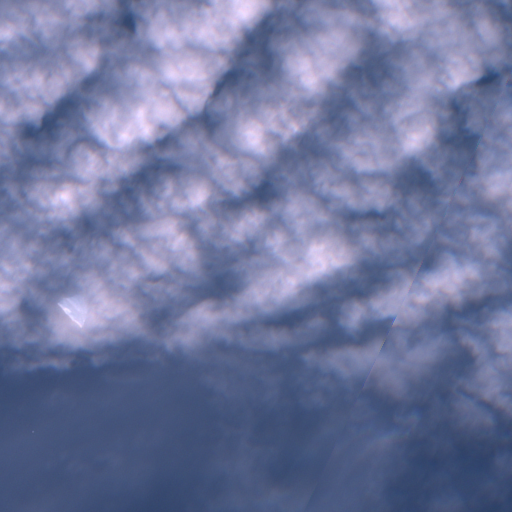Iceberg: (58, 294, 86, 326)
